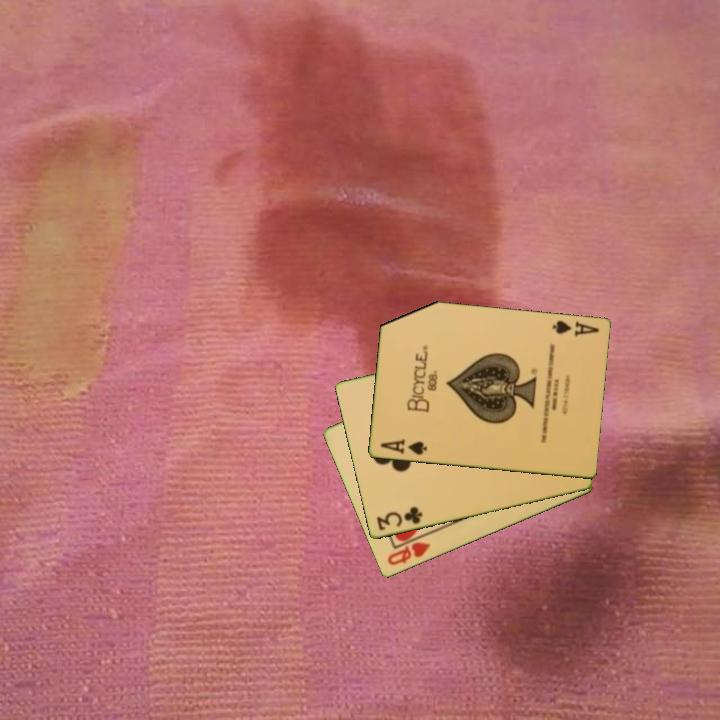3c: (373, 503, 425, 534)
As: (549, 317, 602, 340), (377, 436, 430, 458)
Qh: (384, 539, 433, 569)
